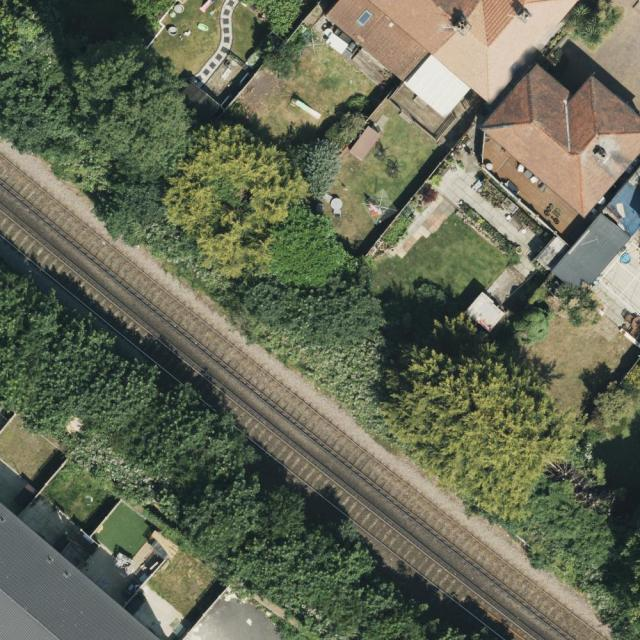roof: (324, 0, 581, 119), (479, 64, 640, 220), (0, 502, 164, 640)
skylight: (357, 8, 373, 26)
